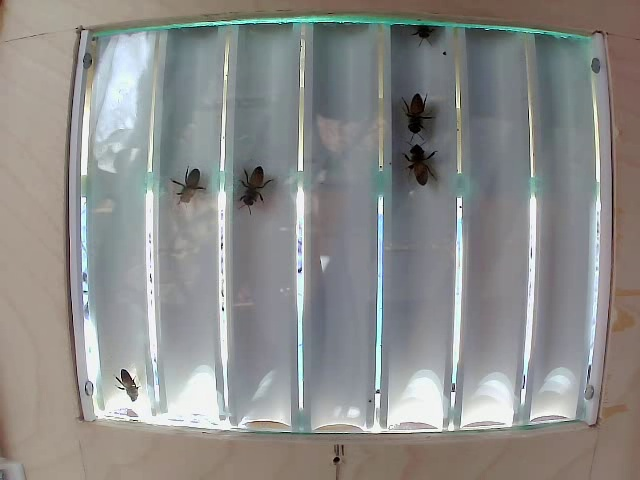bee: (232, 159, 276, 223), (390, 127, 432, 184), (110, 361, 163, 402), (401, 92, 439, 136), (169, 156, 198, 209)
